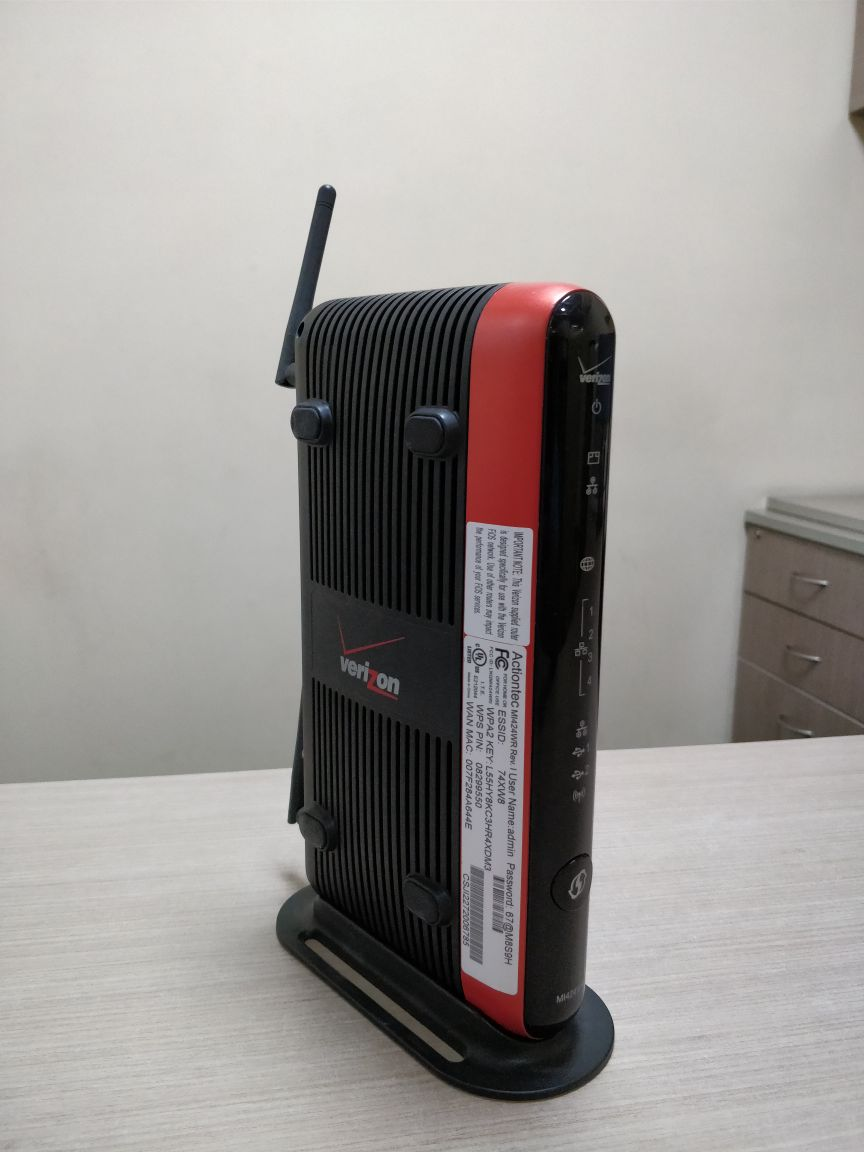Verizon Router: (228, 168, 653, 1114)
